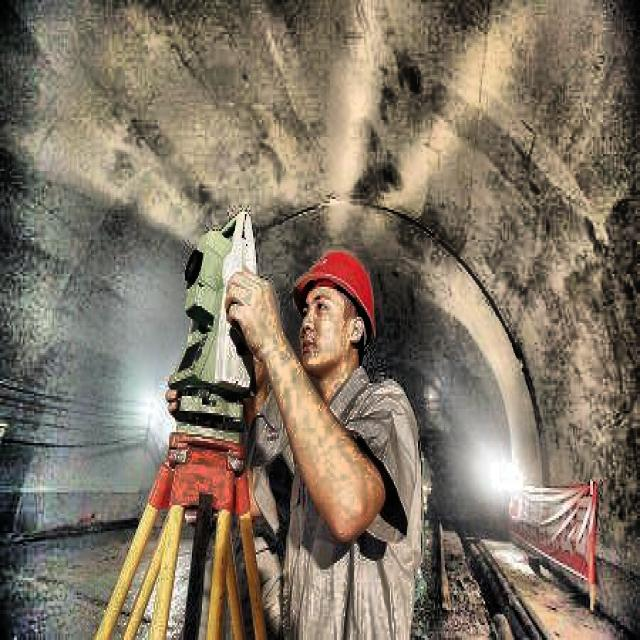helmet: (284, 236, 387, 390)
